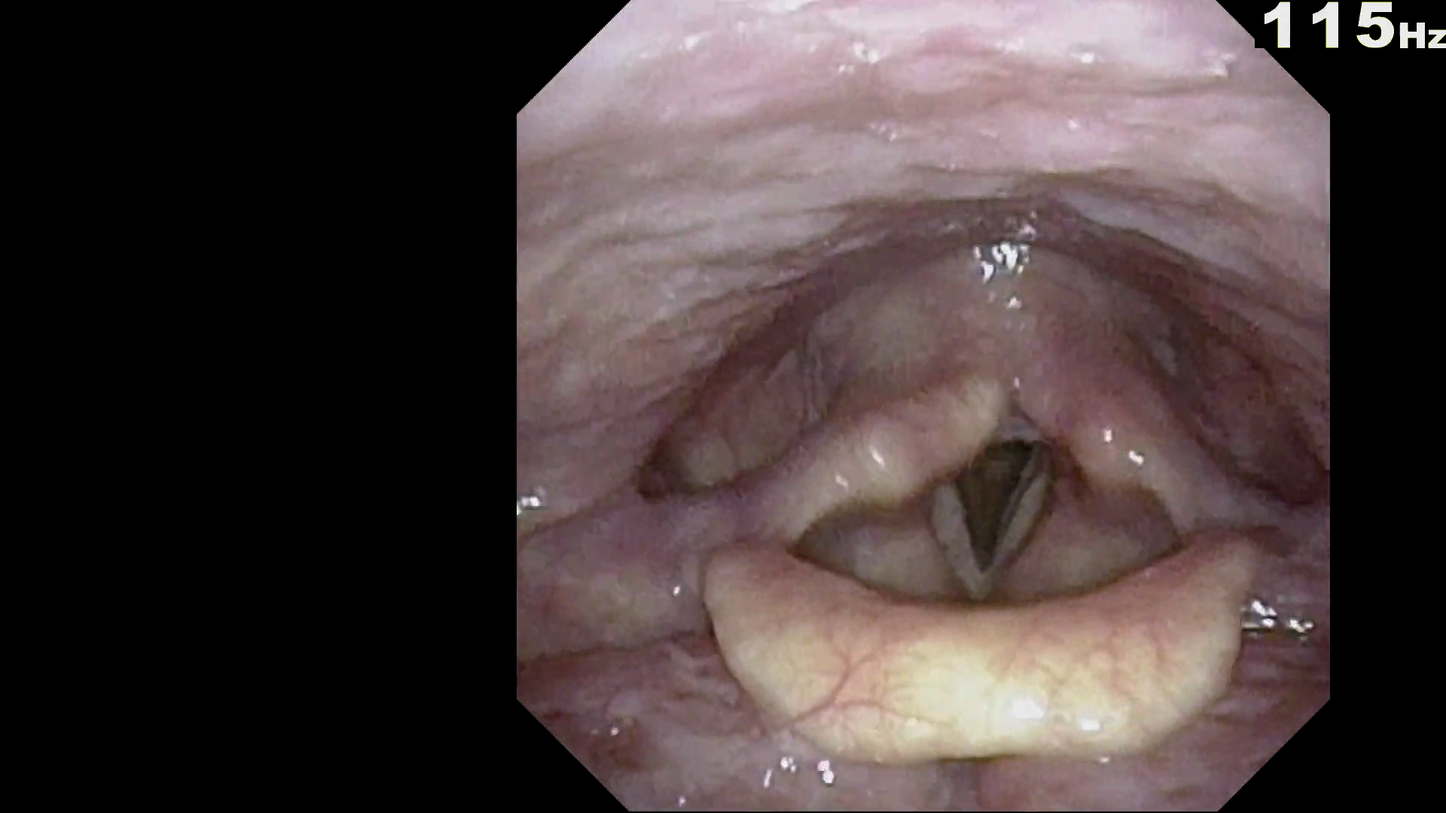epiglottis: (668, 518, 1281, 776)
trachea: (911, 416, 1060, 584)
